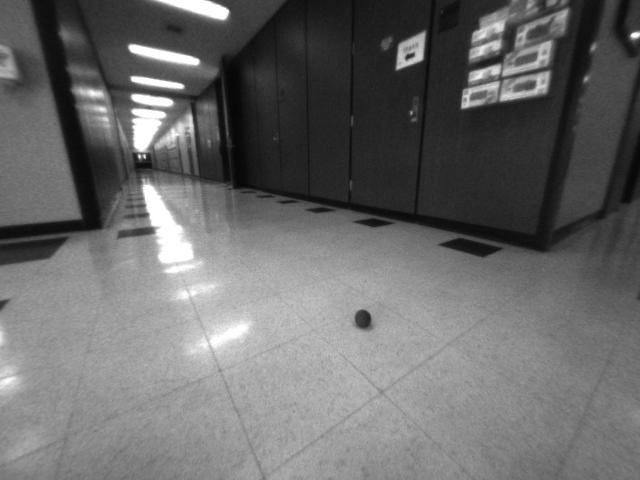dogtoy: (348, 300, 385, 338)
